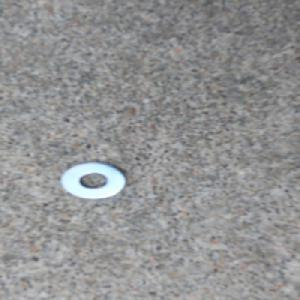Washer: (57, 160, 129, 202)
